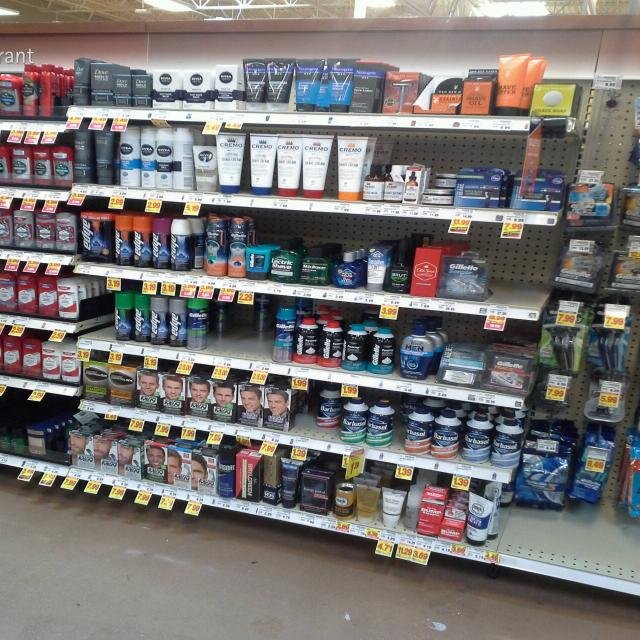void: (492, 229, 546, 321), (210, 301, 247, 379), (84, 276, 116, 352)
